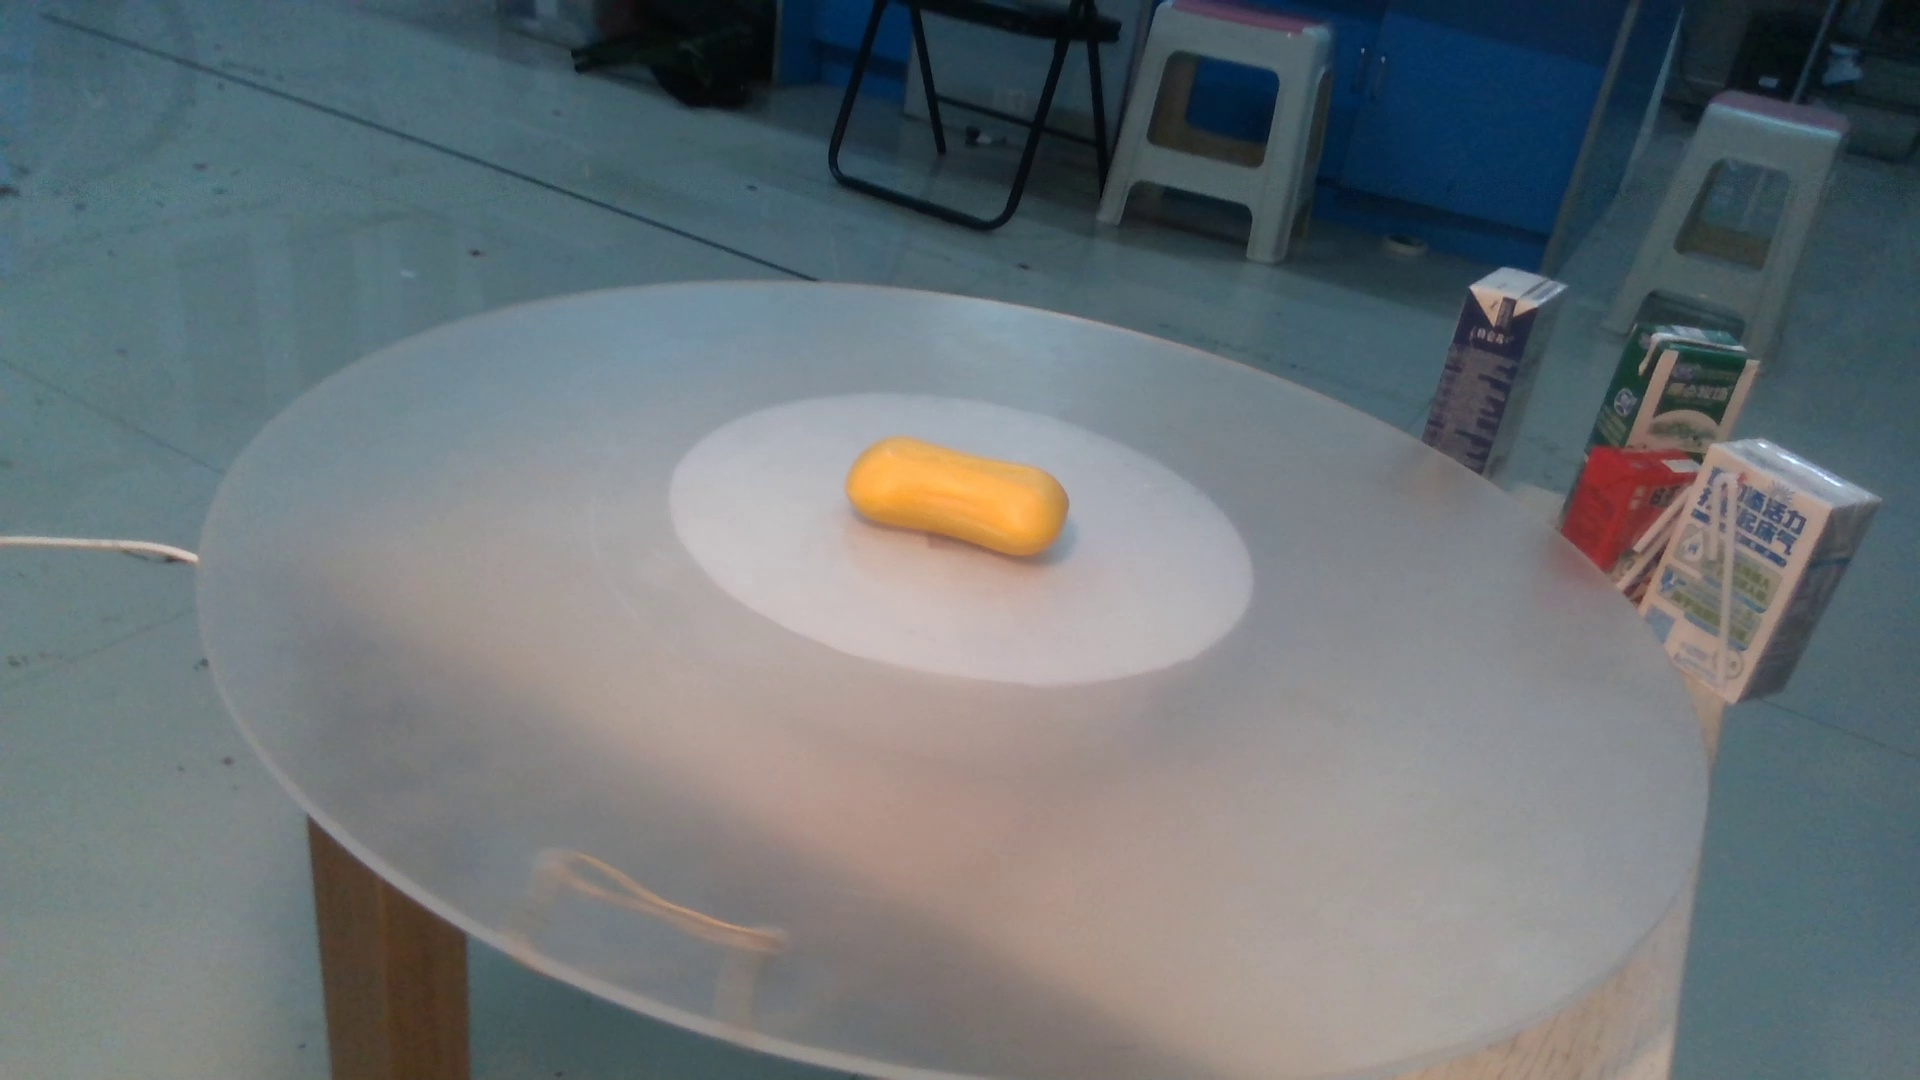CA003_1: (806, 422, 1095, 585)
